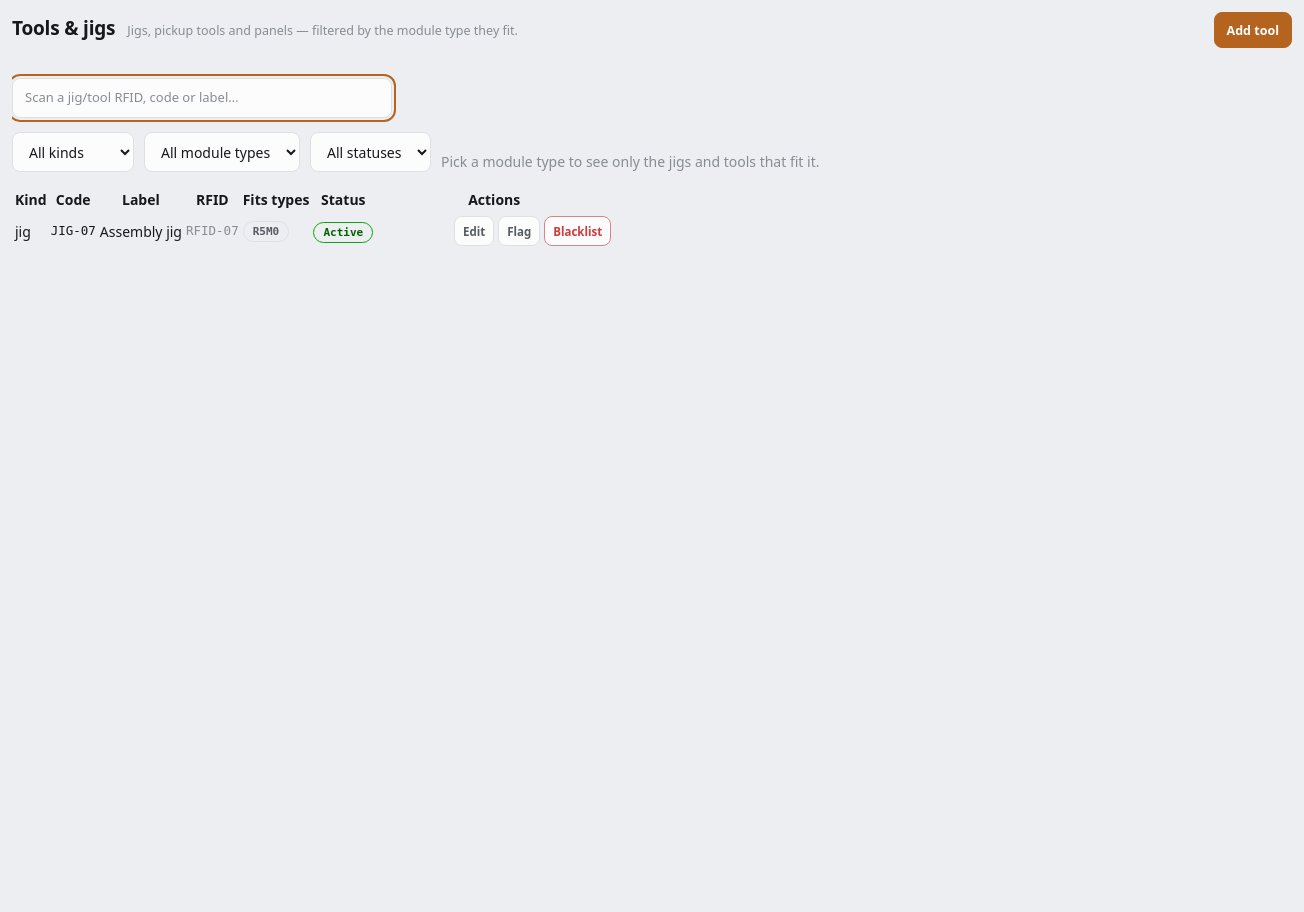
ToolsScreen › gates permanent removal to an explicit confirmation
The width and height of the screenshot is (1304, 912).
Step 1. Click the button "Edit" → click(474, 231), box [454,216,494,246]
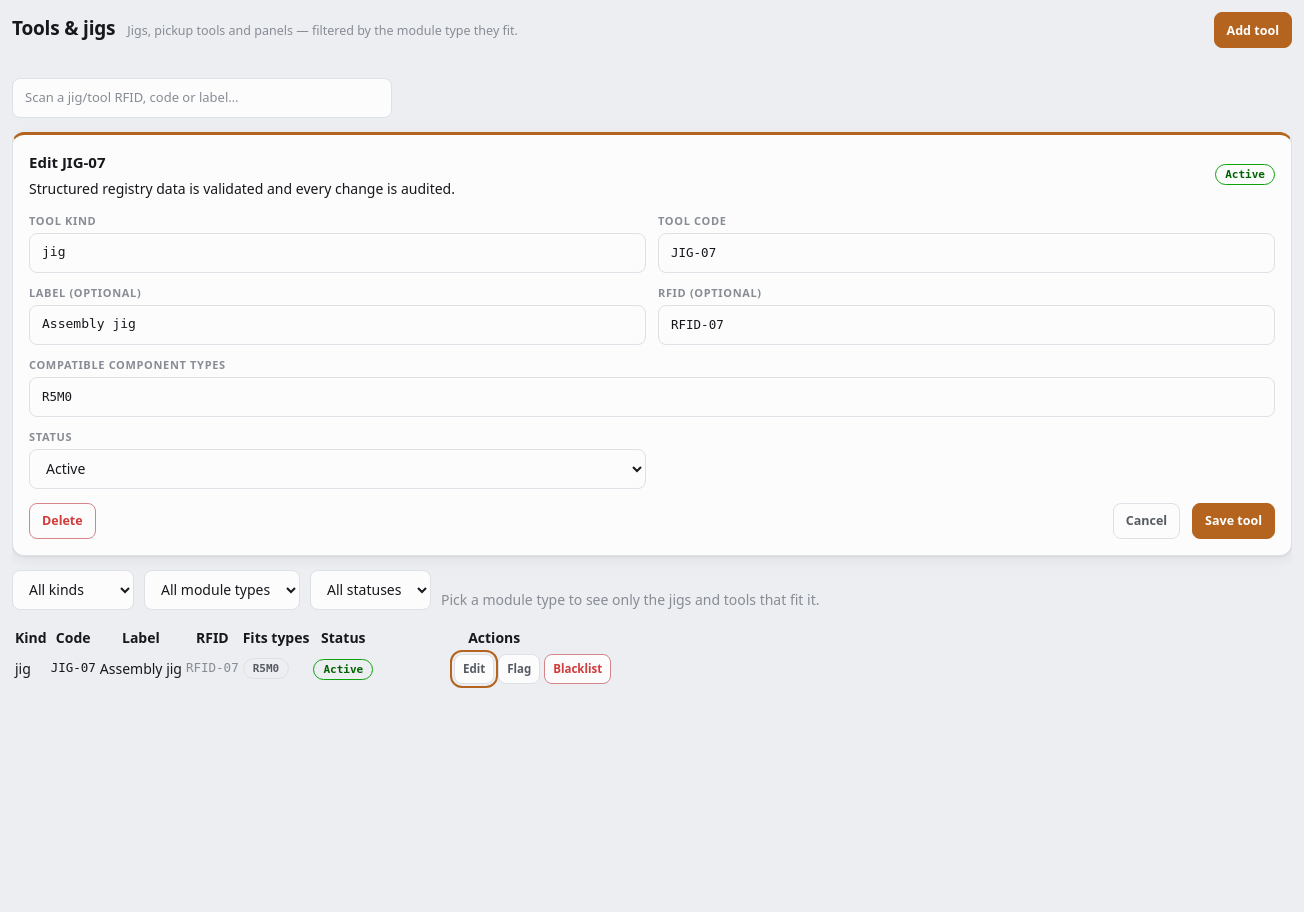
Step 2. Click the button "Delete" → click(62, 520), box [29,502,96,538]
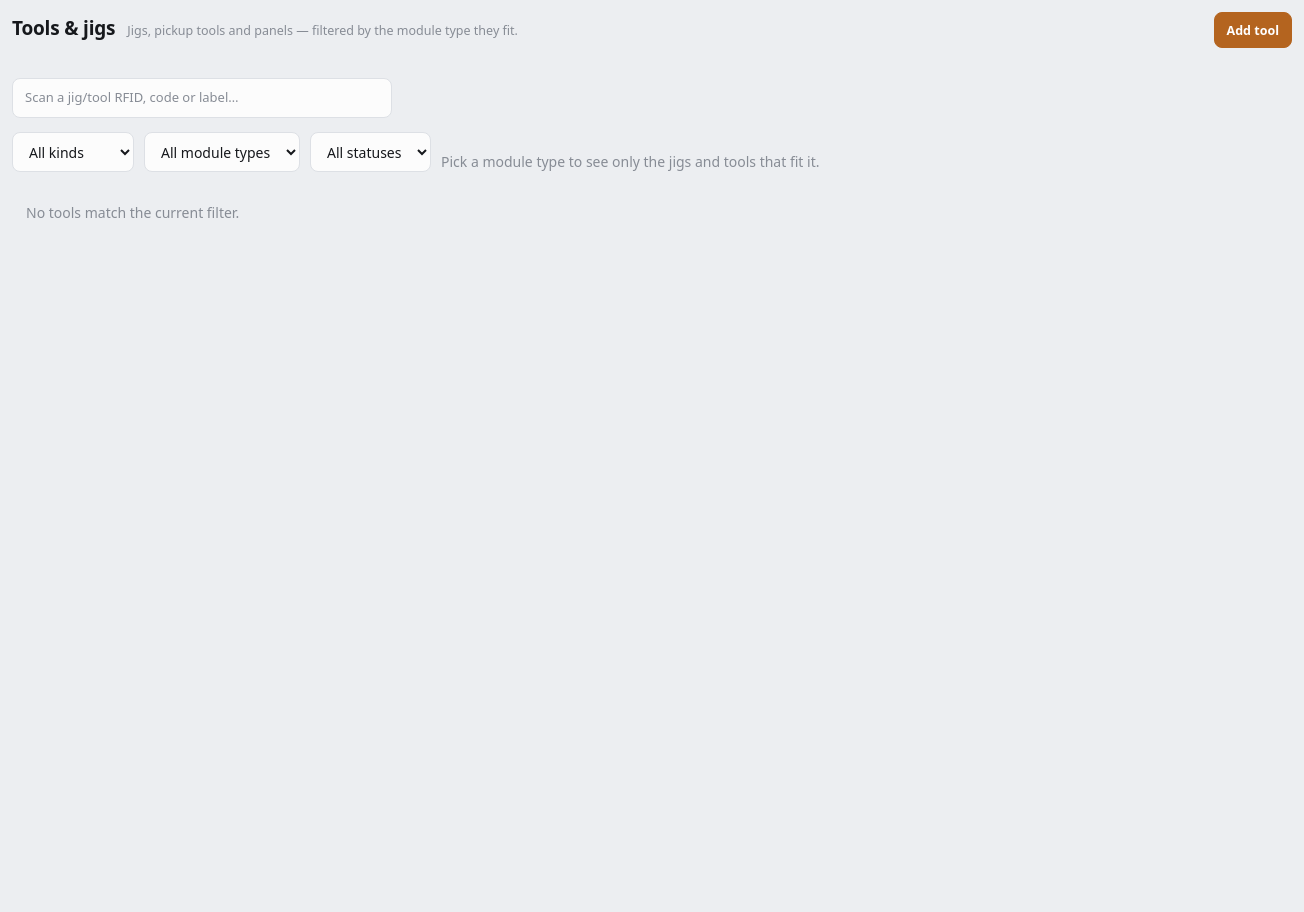
Expected: the heading "JIG-07" is gone
